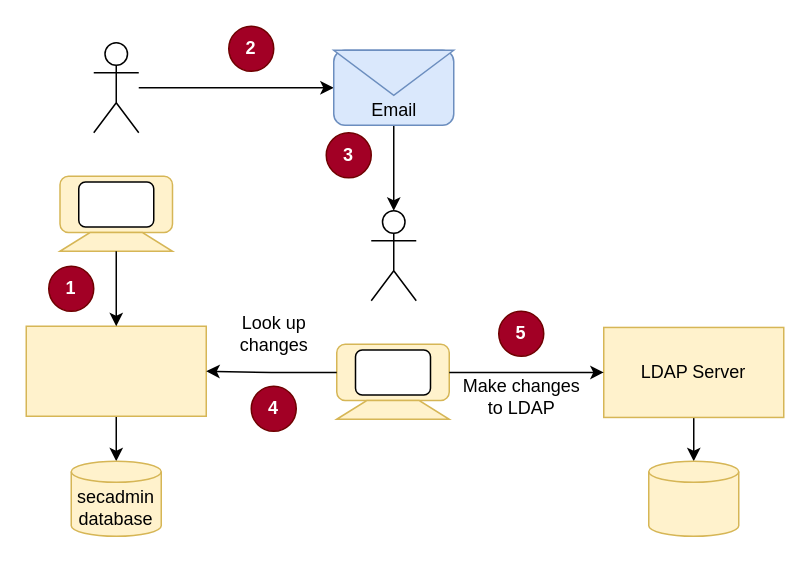
This 810x563 diagram has some shape labels left out. The shapes that lost their labels are listed below. From the top down, each one's centre as x and y in pixels, then its label:
At pixel 115 87: "Security Team".
At pixel 393 255: "IT Ops Team".
At pixel 115 370: "Security Admin Application".
At pixel 693 498: "LDAP directory".
